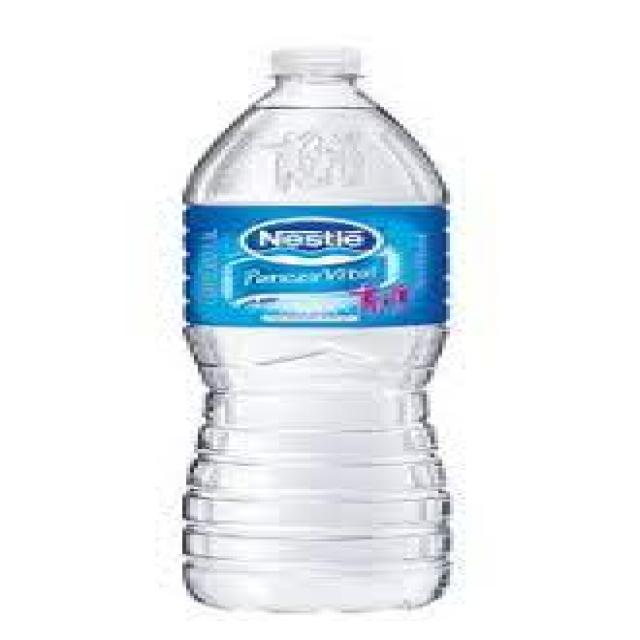bottom: (181, 558, 460, 616)
cap: (240, 43, 399, 85)
